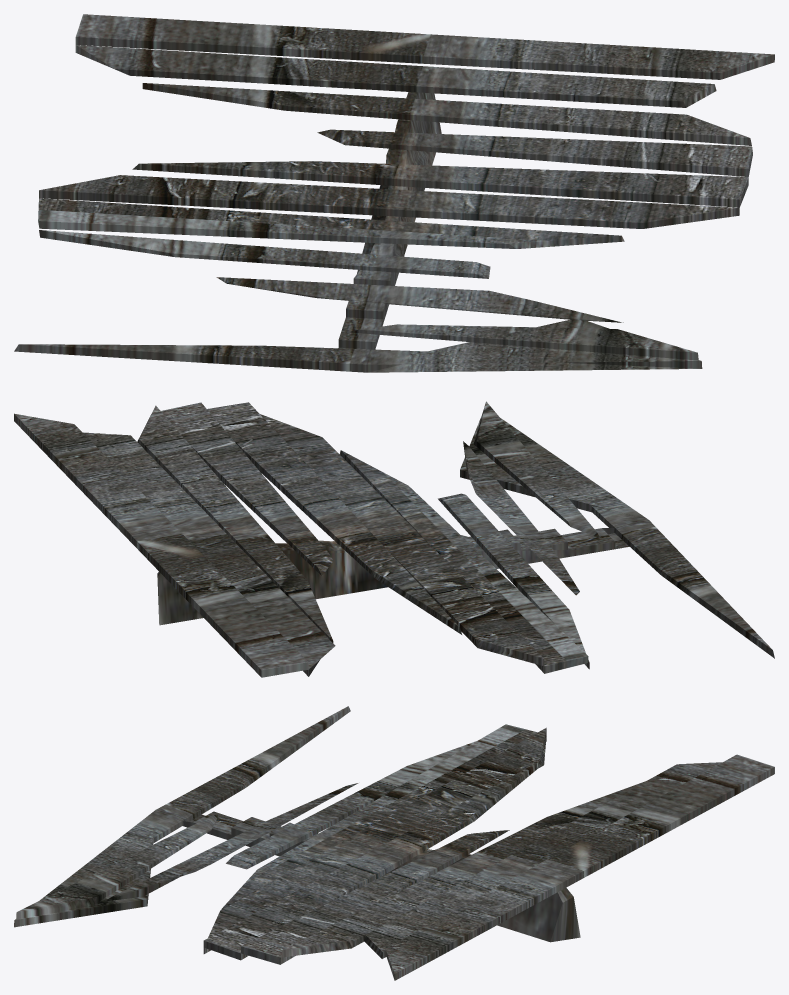
The model's file is RuinB.FBX.
3 views of the same model, one above another, from view 1: azimuth 30°, elevation 25°; view 2: azimuth 150°, elevation 25°; view 3: azimuth 270°, elevation 25° (orthographic). The views are drawn at different scales.
Visible parts, largest first — view 1: StraightStair001; view 2: StraightStair001; view 3: StraightStair001.
Boxes of the visible parts, box(x1,y1,x2,y2) form: StraightStair001: box(14, 14, 774, 372); StraightStair001: box(14, 401, 774, 677); StraightStair001: box(14, 706, 774, 980).
Size of the model in its own units: 72.88 by 7.77 by 68.84.
Materials: 1 (1 with a texture image).
